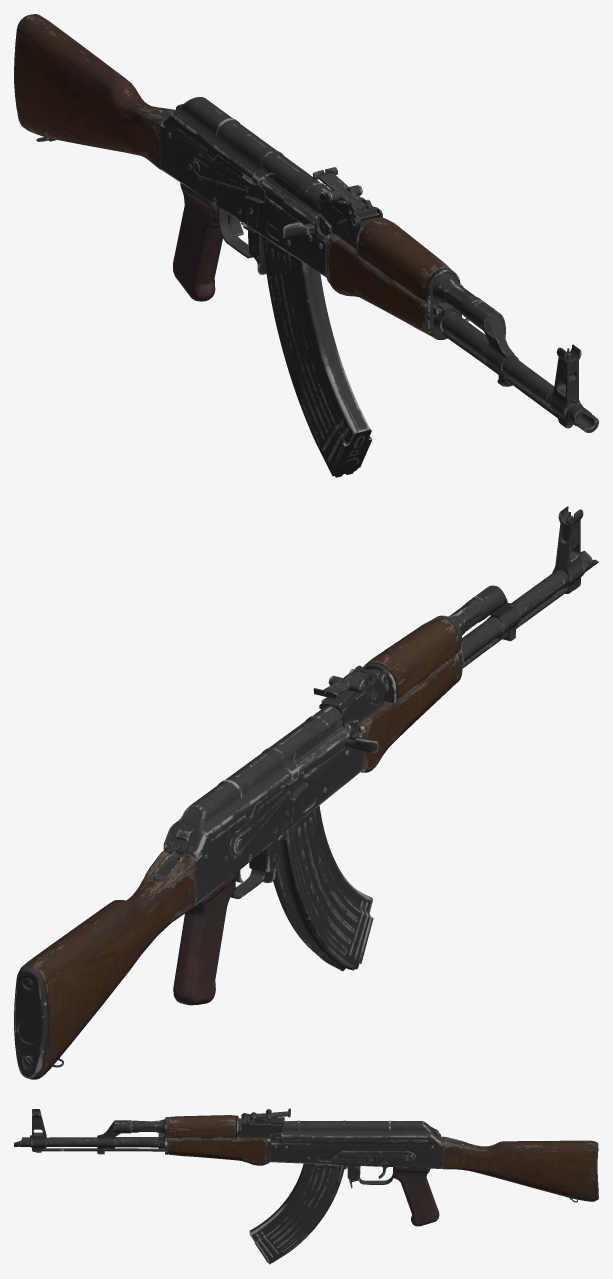
3 renders of one model, top to bottom at view 1: azimuth 30°, elevation 25°; view 2: azimuth 150°, elevation 25°; view 3: azimuth 270°, elevation 25°, orthographic. The views are drawn at different scales.
Parts seen in each view (by area): view 1: ak47; view 2: ak47; view 3: ak47.
Part boxes in pixels (x1=…): ak47: x1=14, y1=14, x2=598, y2=477; ak47: x1=14, y1=506, x2=598, y2=1079; ak47: x1=14, y1=1108, x2=598, y2=1264.
Bounding box in the file's own units: 2.81 × 10.71 × 37.29.
1 material, 1 textured.
